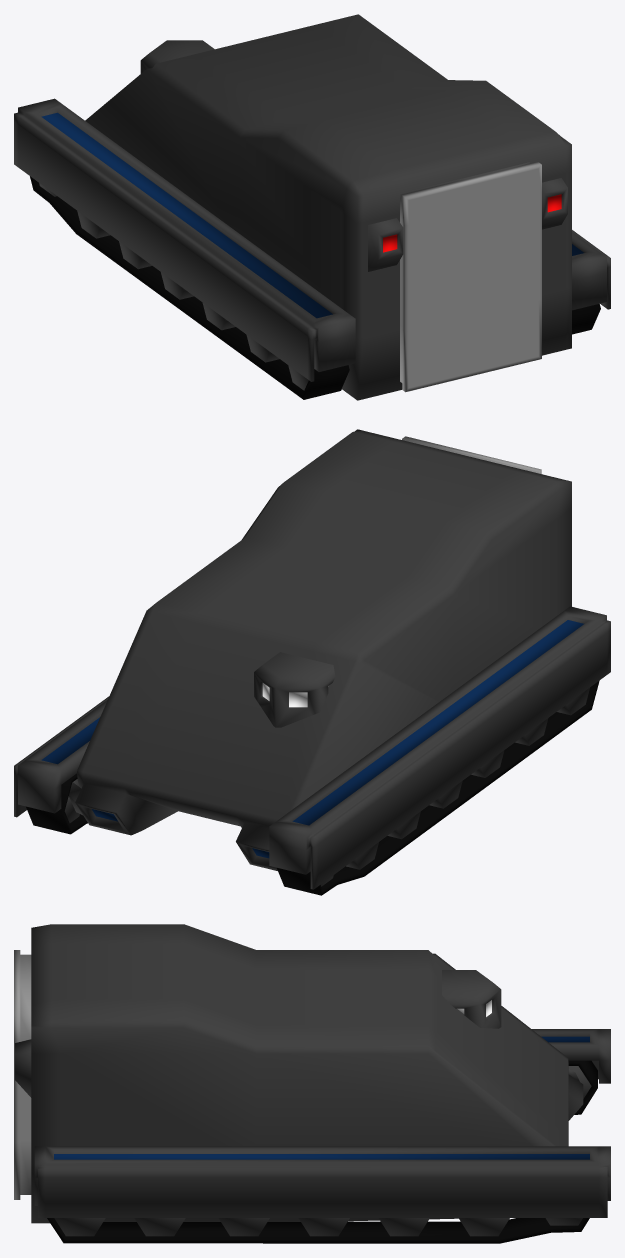
The model's file is NATO-M2A3-IFV.obj.
3 renders of one model, top to bottom at view 1: azimuth 30°, elevation 25°; view 2: azimuth 150°, elevation 25°; view 3: azimuth 270°, elevation 25°, orthographic. The views are drawn at different scales.
Visible parts, largest first — view 1: M2A3-IFV_Cube; view 2: M2A3-IFV_Cube; view 3: M2A3-IFV_Cube.
Boxes of the visible parts, x1,y1,x2,y2 form: M2A3-IFV_Cube: [14, 14, 610, 400]; M2A3-IFV_Cube: [14, 429, 610, 895]; M2A3-IFV_Cube: [14, 924, 610, 1243].
Size of the model in its own units: 7.87 by 5.37 by 14.18.
